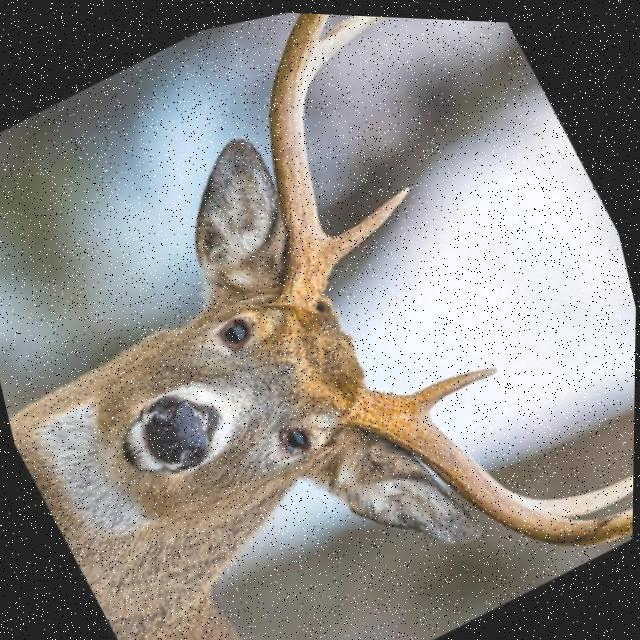L-F: (343, 382, 634, 540)
L-G1: (409, 360, 499, 406)
L-G2: (518, 466, 635, 511)
R-F: (269, 10, 334, 306)
R-G1: (327, 181, 411, 259)
R-G2: (312, 12, 384, 74)
